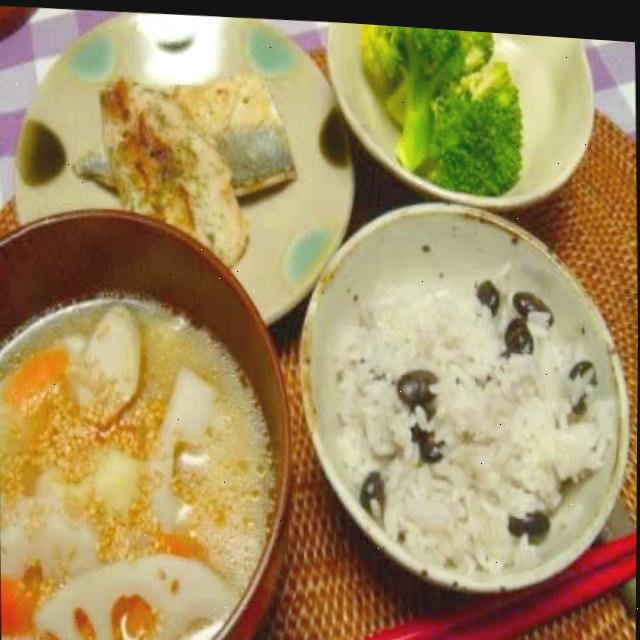蔬菜料理: (0, 203, 316, 640)
